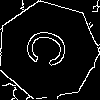C: (23, 25, 79, 73)
